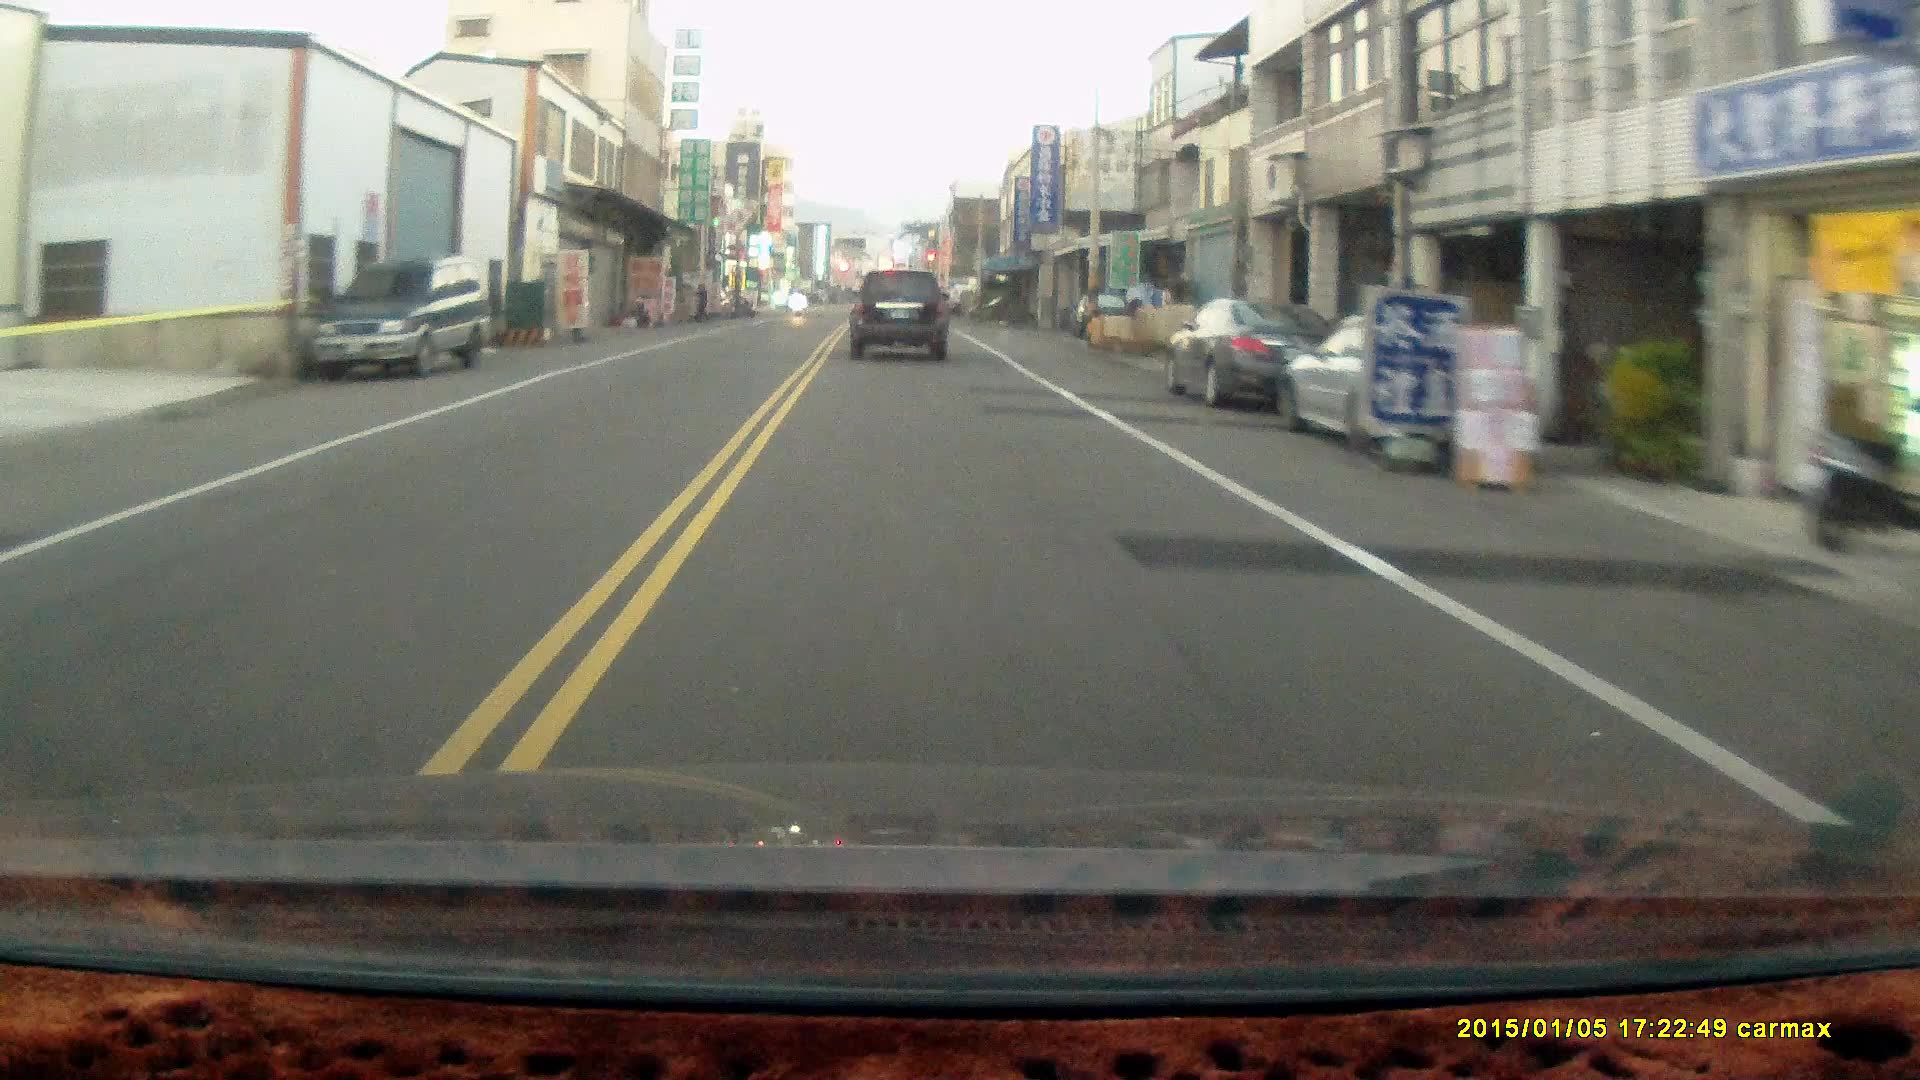vehicle: (1278, 318, 1531, 459), (307, 255, 495, 378), (1160, 298, 1345, 413), (847, 268, 951, 363)
